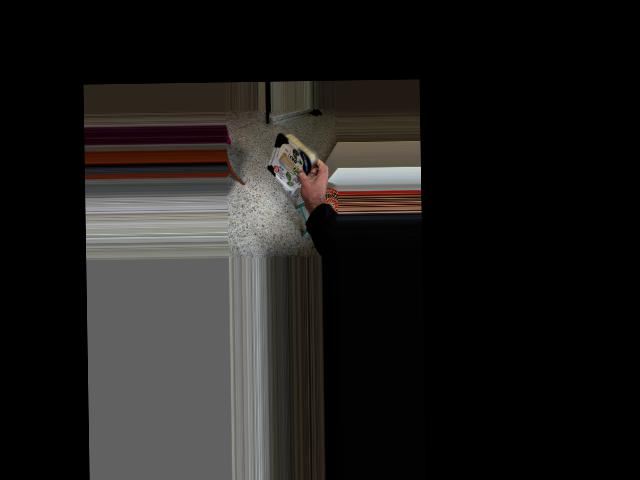cheese: (259, 132, 333, 188)
